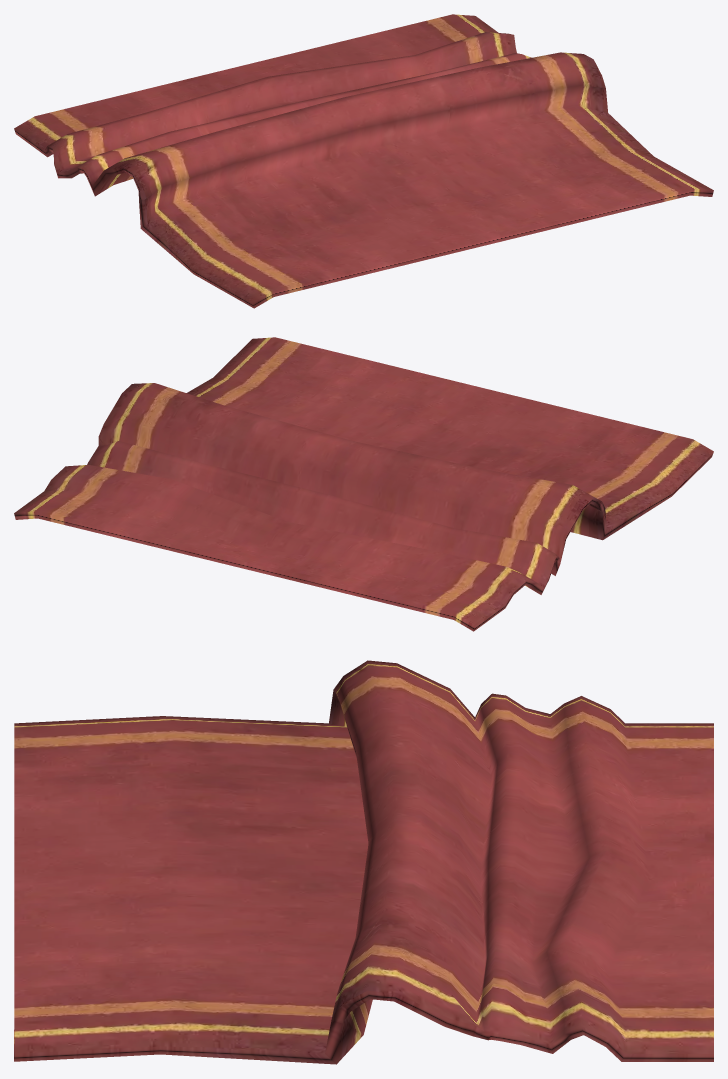
3 renders of one model, top to bottom at view 1: azimuth 30°, elevation 25°; view 2: azimuth 150°, elevation 25°; view 3: azimuth 270°, elevation 25°, orthographic. The views are drawn at different scales.
Parts seen in each view (by area): view 1: SM_DR_Rug_A_04_01_LOD0; view 2: SM_DR_Rug_A_04_01_LOD0; view 3: SM_DR_Rug_A_04_01_LOD0.
Part boxes in pixels (x1=…): SM_DR_Rug_A_04_01_LOD0: x1=14, y1=14, x2=713, y2=308; SM_DR_Rug_A_04_01_LOD0: x1=14, y1=337, x2=713, y2=631; SM_DR_Rug_A_04_01_LOD0: x1=14, y1=660, x2=713, y2=1064.
Size of the model in its own units: 2.3 by 0.2735 by 2.
1 material, 1 textured.
